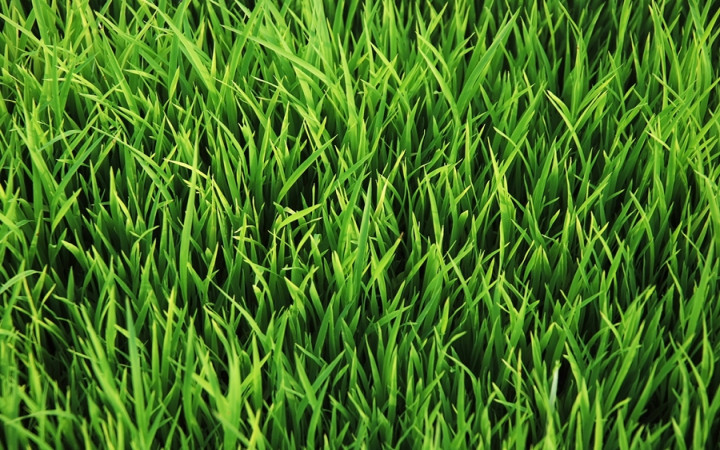grass: (3, 3, 718, 447)
